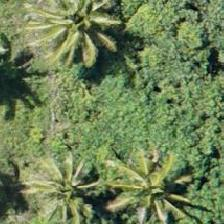coconut_tree: (30, 145, 120, 223), (112, 149, 202, 223), (28, 0, 118, 65)
